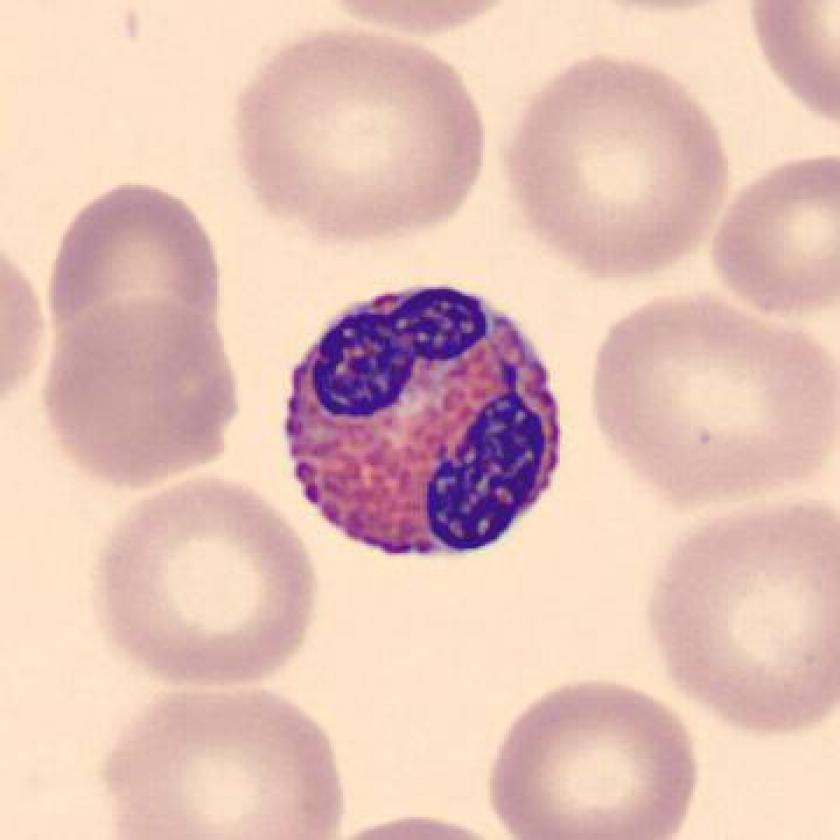eosinophil: (265, 270, 575, 571)
